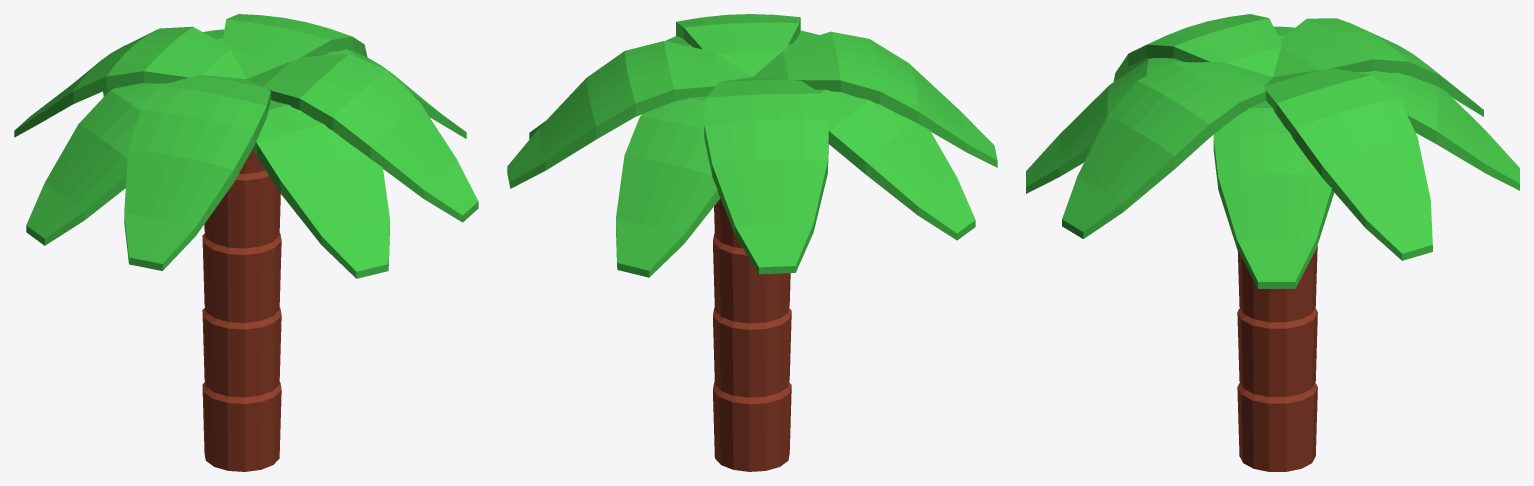
File: boom1.fbx
3 renders of one model, left to right at view 1: azimuth 30°, elevation 25°; view 2: azimuth 150°, elevation 25°; view 3: azimuth 270°, elevation 25°, orthographic.
Visible parts, largest first — view 1: Cylinder.001; view 2: Cylinder.001; view 3: Cylinder.001.
Boxes of the visible parts, x1,y1,x2,y2 form: Cylinder.001: [14, 14, 478, 471]; Cylinder.001: [507, 14, 997, 471]; Cylinder.001: [1026, 14, 1519, 471].
Bounding box in the file's own units: 12.94 × 11.52 × 12.94.
